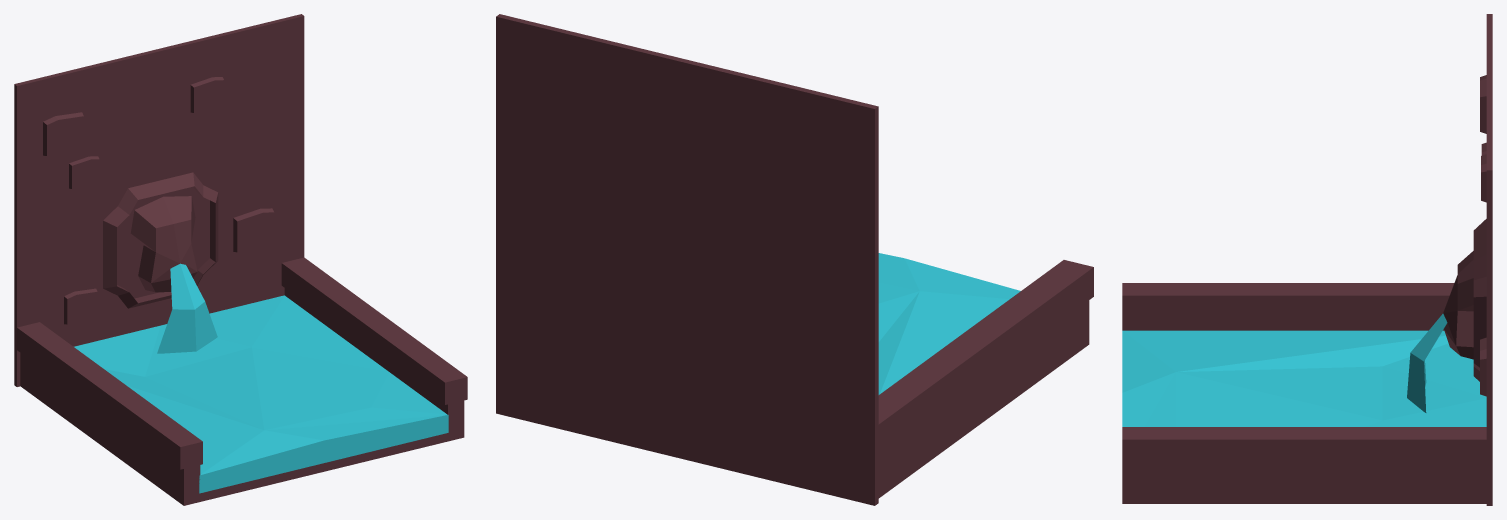
Rendered from SM_Water_Trough_Start_Empire.fbx.
3 views of the same model, side by side, from view 1: azimuth 30°, elevation 25°; view 2: azimuth 150°, elevation 25°; view 3: azimuth 270°, elevation 25° (orthographic). The views are drawn at different scales.
Parts seen in each view (by area): view 1: SM_Water_Trough_Start_Empire; view 2: SM_Water_Trough_Start_Empire; view 3: SM_Water_Trough_Start_Empire.
Part boxes in pixels (bbox=[...]): SM_Water_Trough_Start_Empire: bbox=[14, 14, 467, 505]; SM_Water_Trough_Start_Empire: bbox=[496, 14, 1093, 505]; SM_Water_Trough_Start_Empire: bbox=[1122, 14, 1492, 505].
Bounding box in the file's own units: 3 × 3 × 3.
